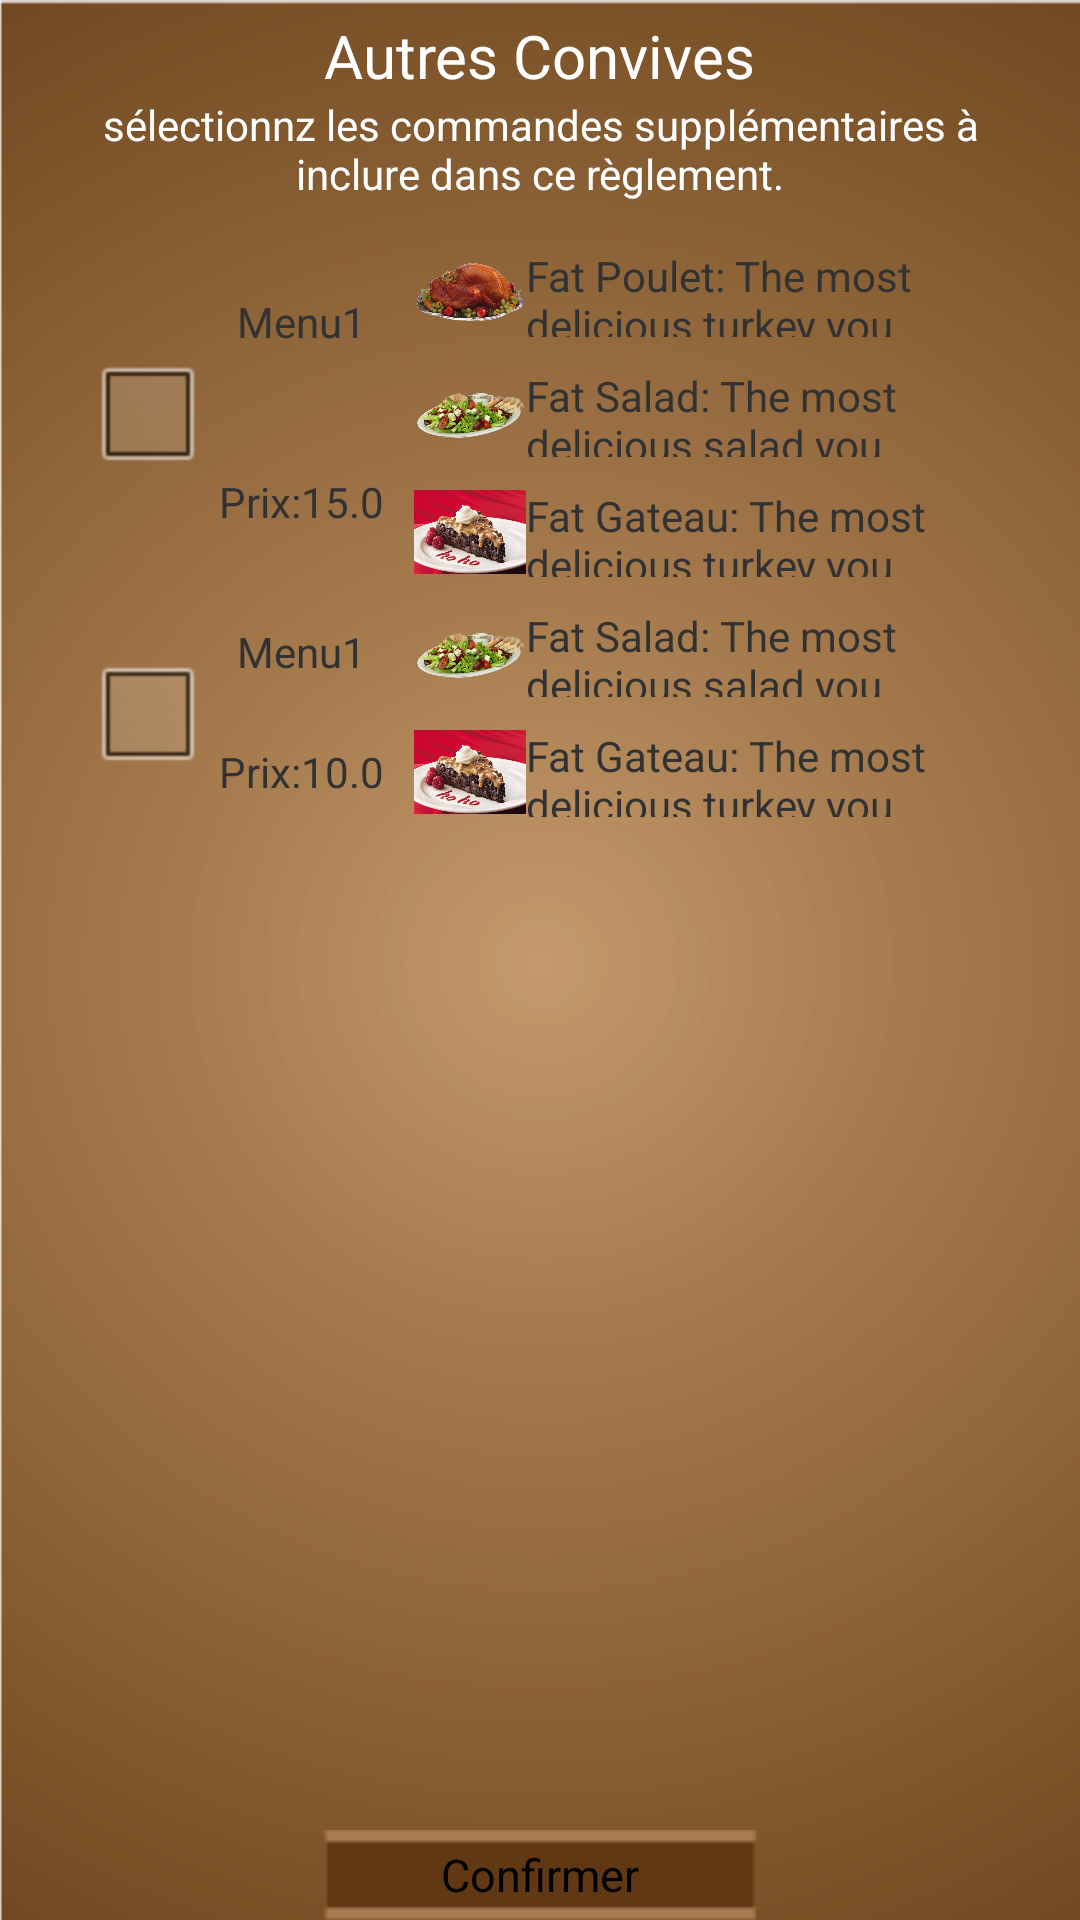

Icon bounding boxes for this 1080px×1920px phone screenshot, format (x1, y1, x2, y2):
salad platter: (417, 393, 524, 438), (417, 633, 524, 678)
